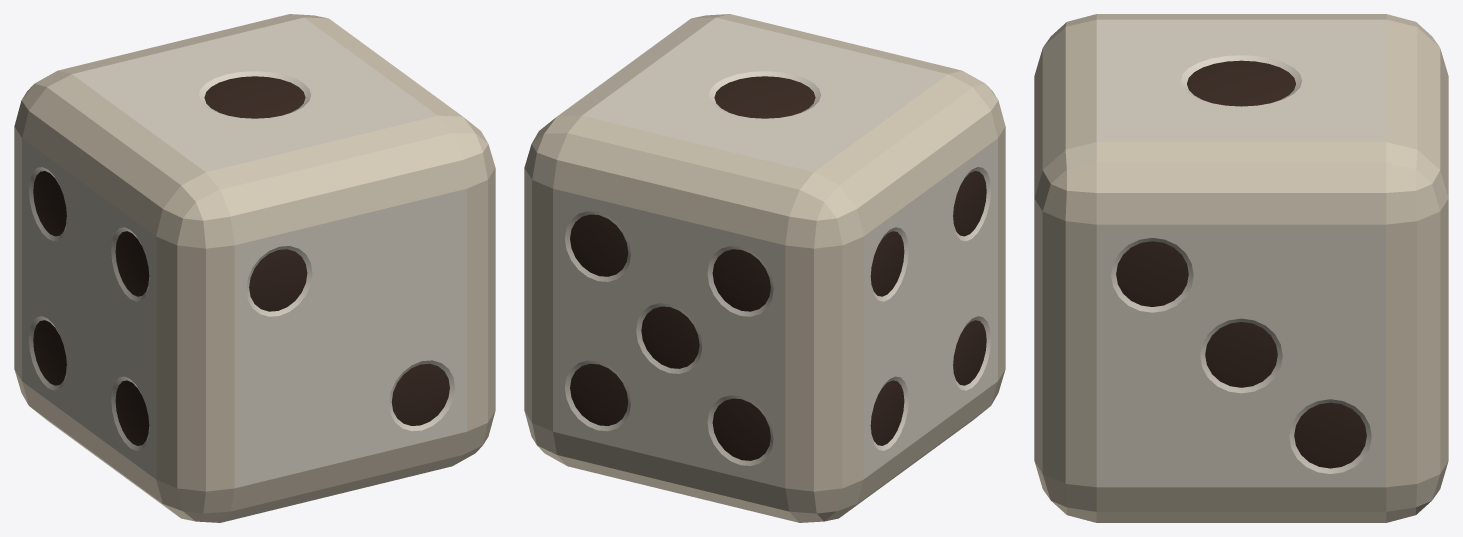
The model's file is dice_lshu_v2.glb.
The picture shows the model from 3 angles, left to right: view 1: azimuth 30°, elevation 25°; view 2: azimuth 150°, elevation 25°; view 3: azimuth 270°, elevation 25°; orthographic projection. The views are drawn at different scales.
Parts seen in each view (by area): view 1: dice_lshu; view 2: dice_lshu; view 3: dice_lshu.
Part boxes in pixels (box(x1,y1,x2,y2)): dice_lshu: box(14, 14, 495, 522); dice_lshu: box(524, 14, 1005, 522); dice_lshu: box(1034, 14, 1448, 522).
Size of the model in its own units: 1 by 1 by 1.
